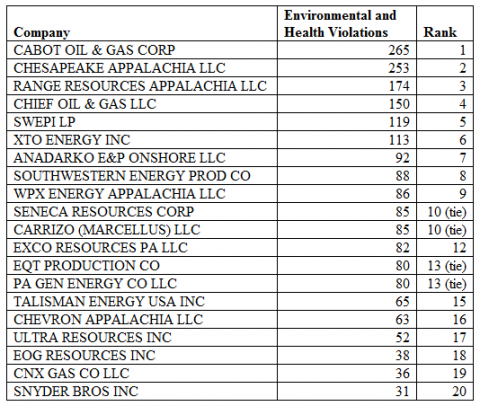fracking table: (6, 5, 475, 401)
